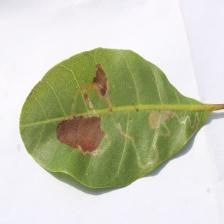leaf miner: (18, 46, 224, 188), (70, 63, 113, 117)
